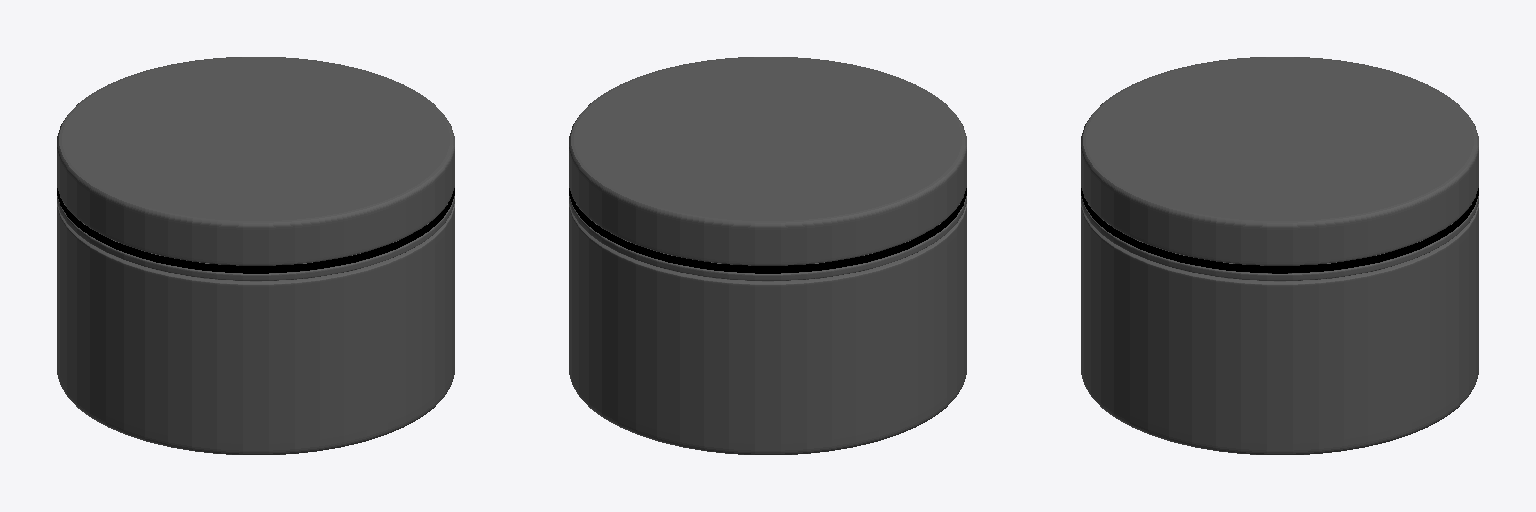
Rendered from Cream.obj.
The picture shows the model from 3 angles: view 1: azimuth 30°, elevation 25°; view 2: azimuth 150°, elevation 25°; view 3: azimuth 270°, elevation 25°; orthographic projection.
Visible parts, largest first — view 1: SRG_Aproti; view 2: SRG_Aproti; view 3: SRG_Aproti.
Boxes of the visible parts, x1=… form: SRG_Aproti: x1=57, y1=57, x2=454, y2=454; SRG_Aproti: x1=569, y1=57, x2=966, y2=454; SRG_Aproti: x1=1081, y1=57, x2=1478, y2=454.
Bounding box in the file's own units: 1.44 × 0.9295 × 1.44.